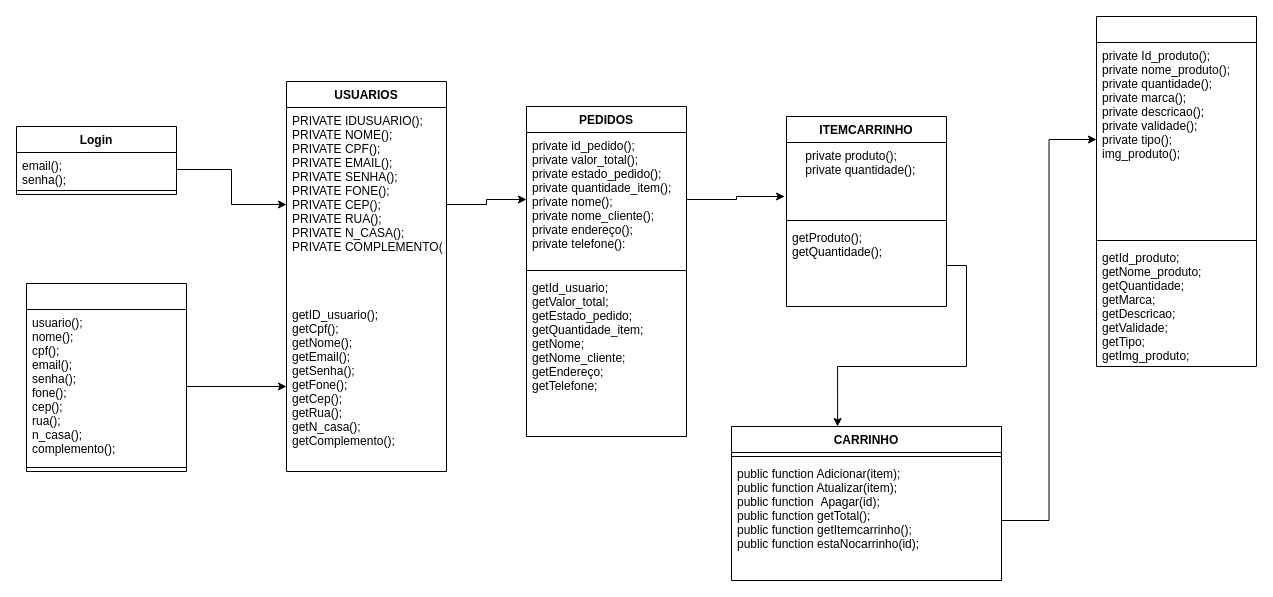
The diagram is 1273 pixels wide and 597 high, and some of its shapes have lost their labels. Here are the shapes that lost their labels. From the top down, the box of each, then its label:
(1096, 16, 1256, 366): PRODUTOS
(26, 282, 186, 472): cadastrarusuario
